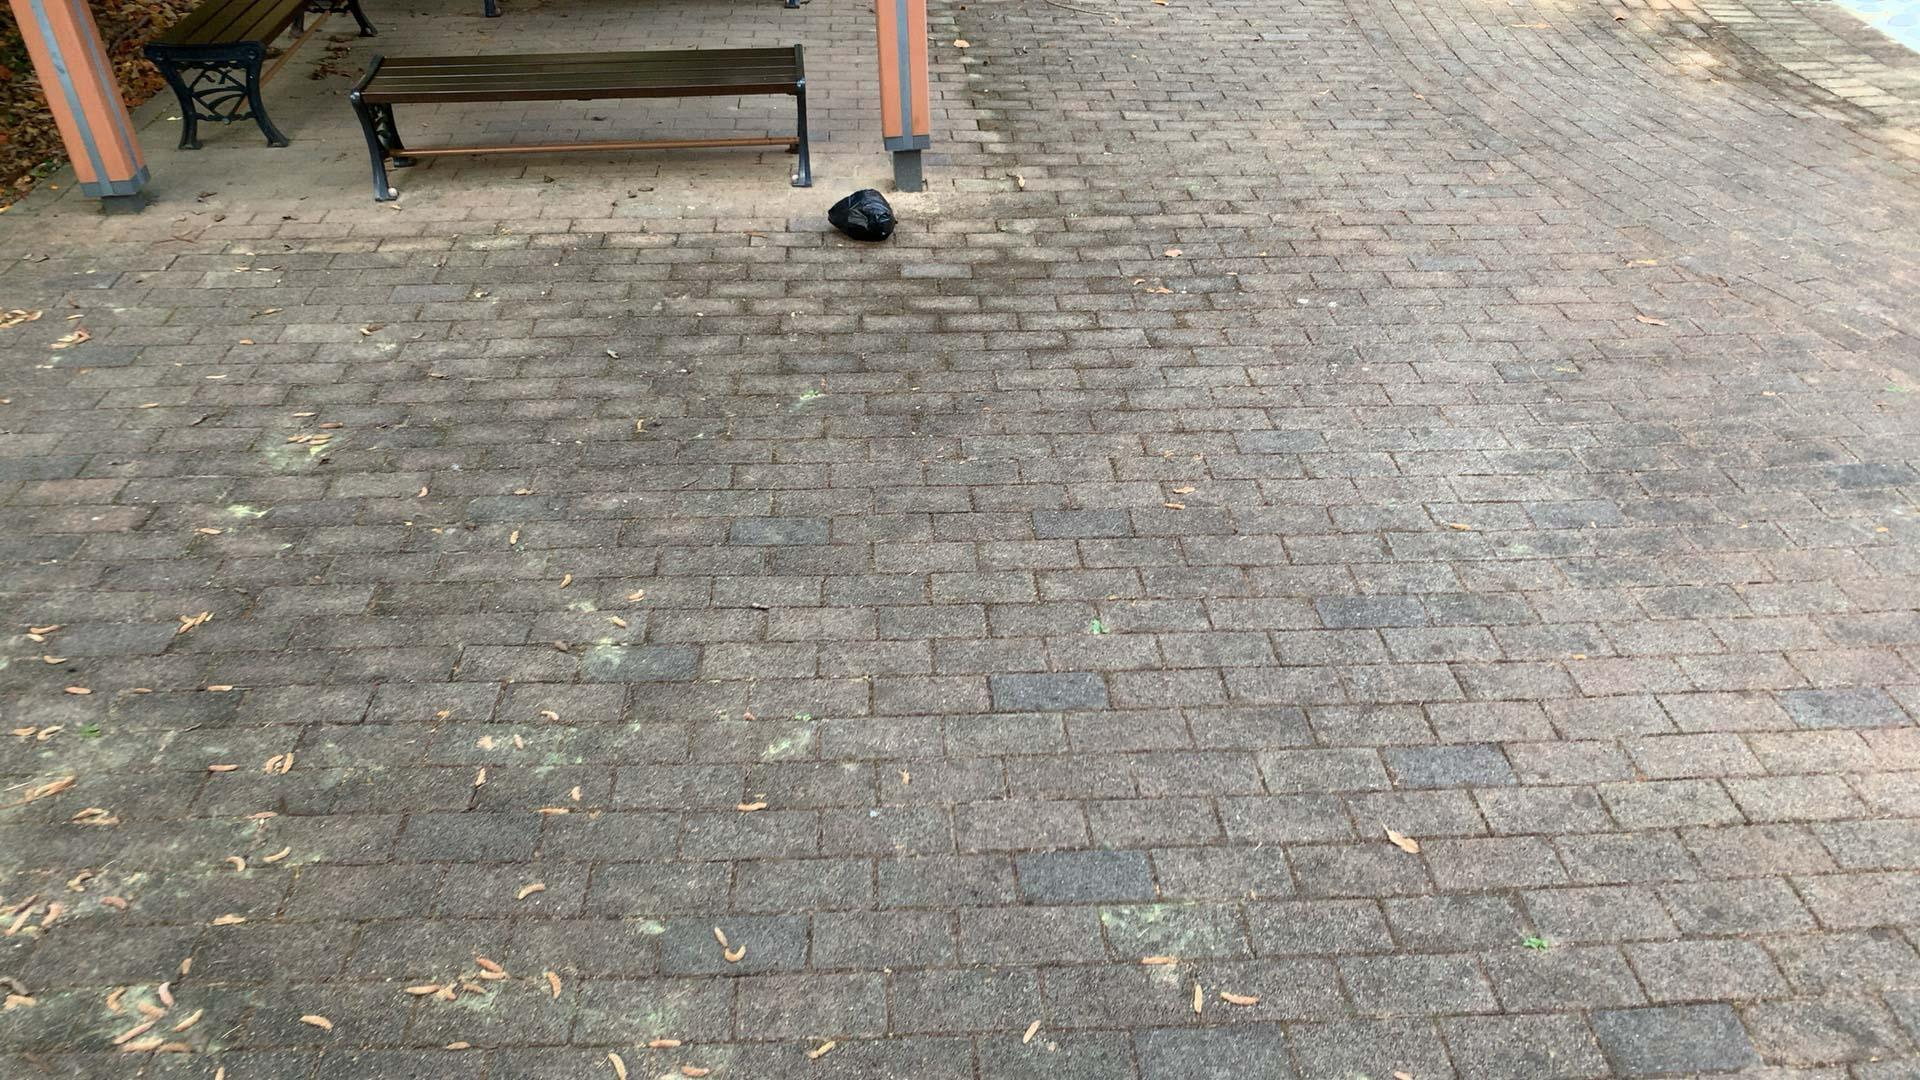black_bag: (818, 181, 905, 256)
